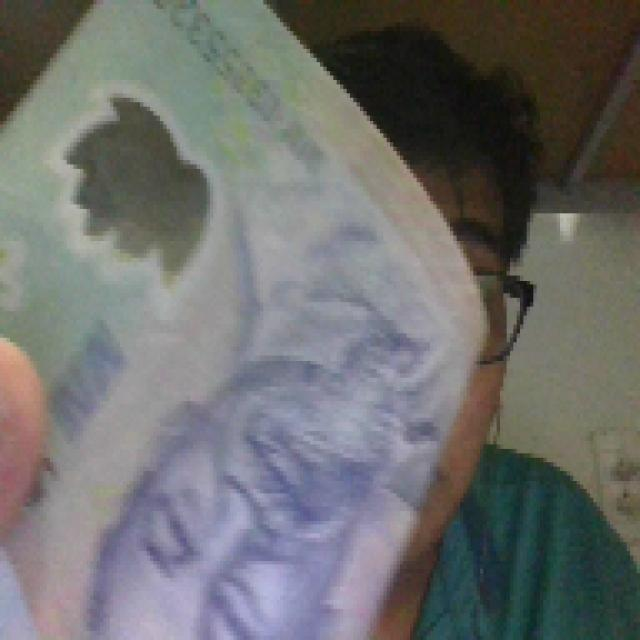500 000 VND: (0, 0, 493, 635)
